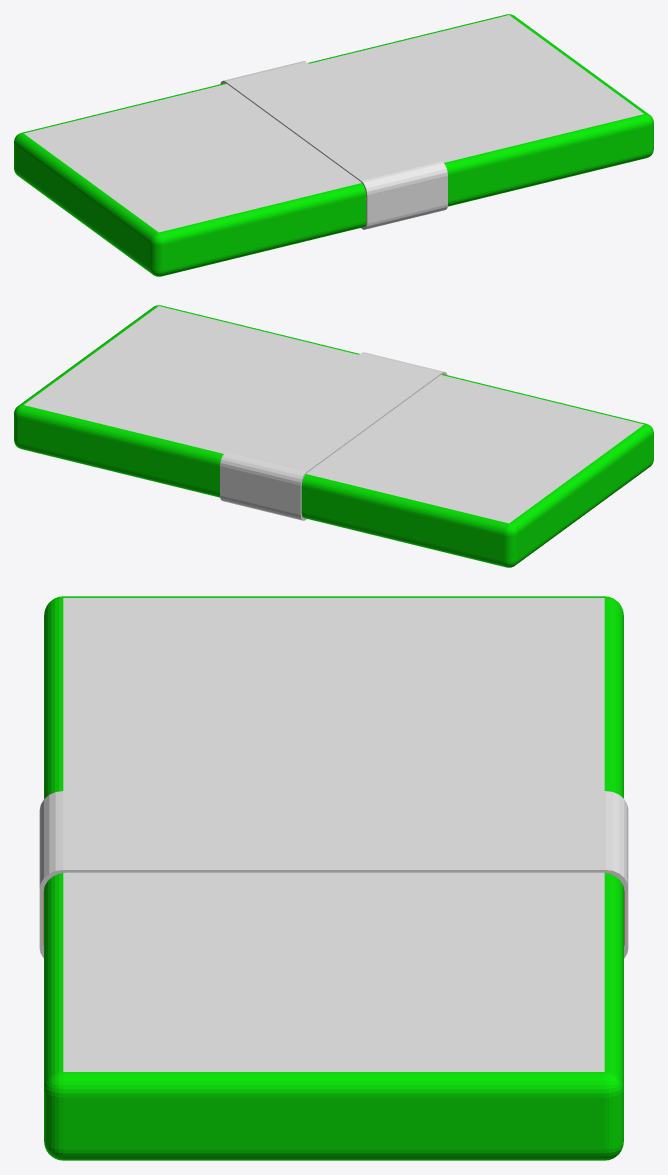
Rendered from Money-Pile_01.fbx.
3 views of the same model, one above another, from view 1: azimuth 30°, elevation 25°; view 2: azimuth 150°, elevation 25°; view 3: azimuth 270°, elevation 25° (orthographic). The views are drawn at different scales.
Visible parts, largest first — view 1: Money-Pile.001; view 2: Money-Pile.001; view 3: Money-Pile.001.
Part boxes in pixels (box(x1,y1,x2,y2)): Money-Pile.001: box(14, 14, 653, 276); Money-Pile.001: box(14, 305, 653, 567); Money-Pile.001: box(39, 596, 628, 1160).
Size of the model in its own units: 300 by 27.12 by 152.
